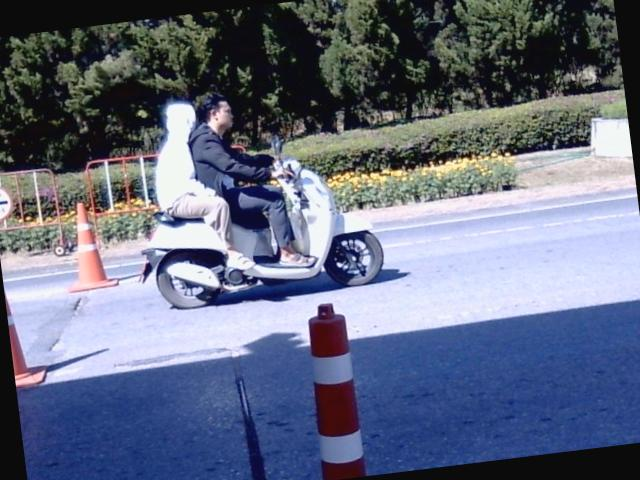motor: (141, 136, 383, 308)
no-helmet: (198, 94, 231, 127), (164, 101, 191, 132)
person: (189, 93, 313, 266), (154, 102, 253, 269)
